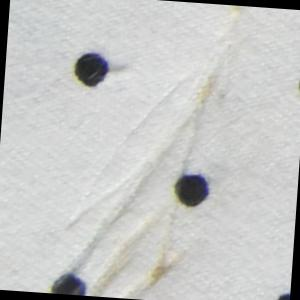Damage: (55, 30, 235, 300)
Oil Stain: (88, 200, 193, 300), (198, 71, 218, 110)
